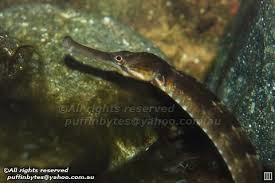Long-Snouted Pipefish: (62, 35, 266, 183)
